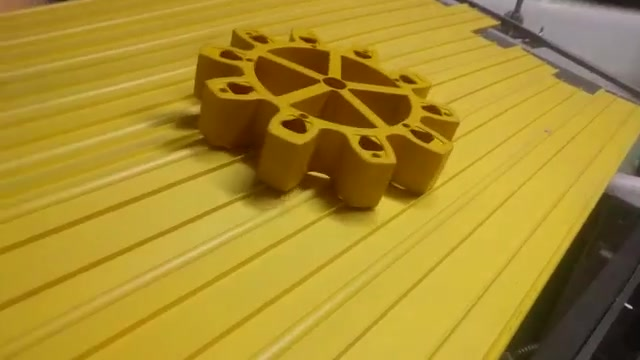gear: (188, 9, 467, 236)
